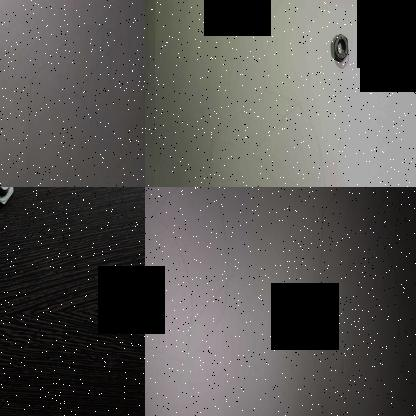Bolts: (0, 187, 15, 209)
NUTS: (368, 16, 398, 68), (330, 28, 350, 65)
